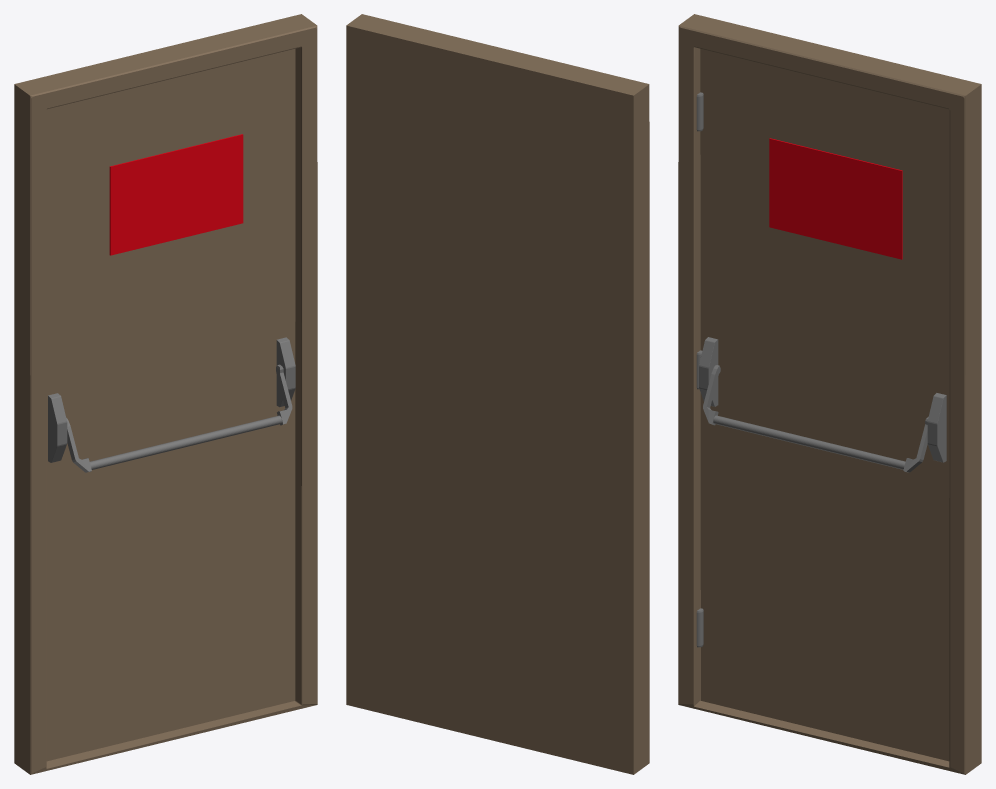
Rendered from uploads_files_3409070_firedoor.fbx.
3 views of the same model, side by side, from view 1: azimuth 30°, elevation 25°; view 2: azimuth 150°, elevation 25°; view 3: azimuth 330°, elevation 25° (orthographic).
Visible parts, largest first — view 1: Cube, Plane, Cylinder, Cube.001, Cube.002; view 2: Cube; view 3: Cube, Plane, Cylinder, Cube.002, Cube.001.
Part boxes in pixels (x1,y1,x2,y2): Cube: (14,14,317,774); Plane: (109,134,243,255); Cylinder: (90,415,281,469); Cube.001: (48,393,67,462); Cube.002: (276,337,295,407); Cube: (346,14,649,774); Cube: (678,14,981,774); Plane: (769,138,902,259); Cylinder: (713,415,905,469); Cube.002: (927,393,946,462); Cube.001: (699,337,718,406).
Size of the model in its own units: 101 by 229 by 18.37.
